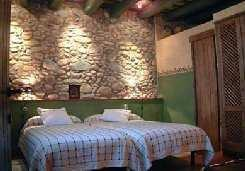Cama: (89, 108, 208, 168), (28, 107, 132, 167)
